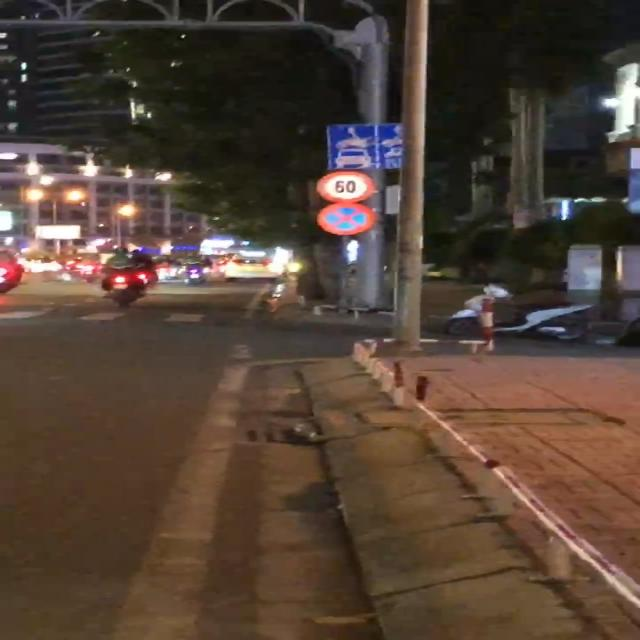Bien bao cam dung xe va do xe: (314, 201, 376, 237)
Bien bao toc do toi da cho phep: (315, 168, 380, 203)
